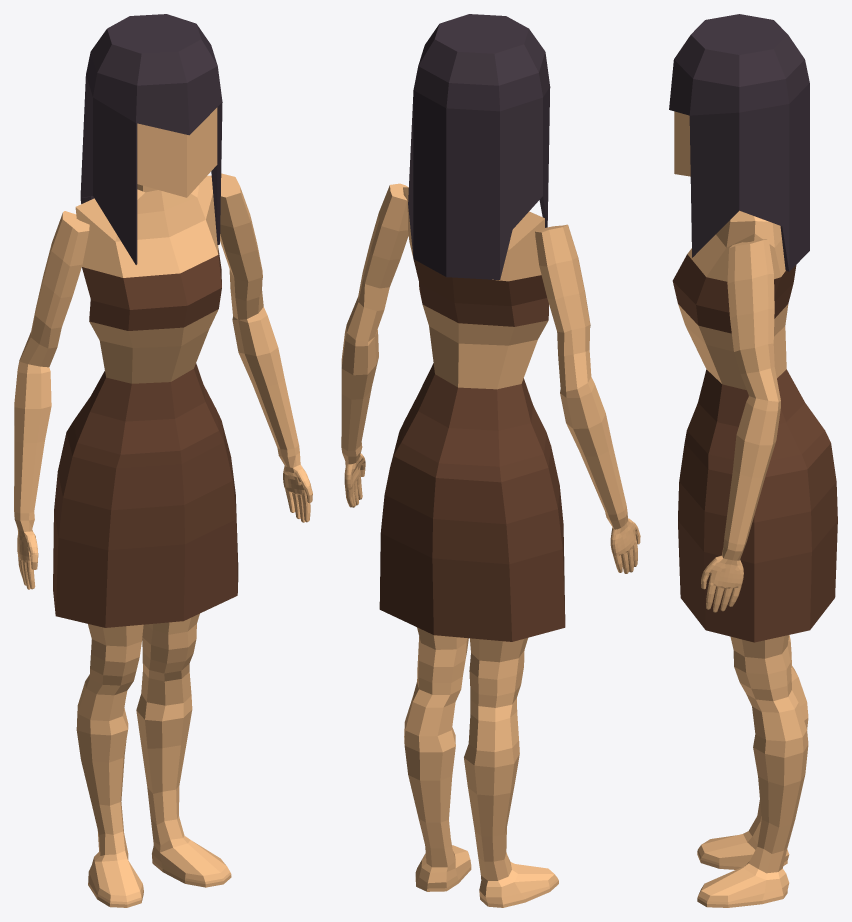
File: MrPropre.fbx
3 renders of one model, left to right at view 1: azimuth 30°, elevation 25°; view 2: azimuth 150°, elevation 25°; view 3: azimuth 270°, elevation 25°, orthographic.
Parts seen in each view (by area): view 1: Corps_Mei, Tete_Mei, Jambes_Mei, Bras_Mei; view 2: Corps_Mei, Tete_Mei, Jambes_Mei, Bras_Mei; view 3: Corps_Mei, Tete_Mei, Jambes_Mei, Bras_Mei.
Boxes of the visible parts, x1=… form: Corps_Mei: x1=53, y1=175, x2=238, y2=627; Tete_Mei: x1=80, y1=14, x2=222, y2=264; Jambes_Mei: x1=76, y1=613, x2=231, y2=907; Bras_Mei: x1=14, y1=173, x2=312, y2=589; Corps_Mei: x1=379, y1=187, x2=565, y2=641; Tete_Mei: x1=408, y1=14, x2=550, y2=279; Jambes_Mei: x1=404, y1=627, x2=558, y2=907; Bras_Mei: x1=341, y1=183, x2=640, y2=573; Corps_Mei: x1=672, y1=210, x2=837, y2=642; Tete_Mei: x1=669, y1=14, x2=809, y2=271; Jambes_Mei: x1=697, y1=635, x2=808, y2=907; Bras_Mei: x1=701, y1=239, x2=780, y2=612.
Bounding box in the file's own units: 364 × 1040 × 189.
